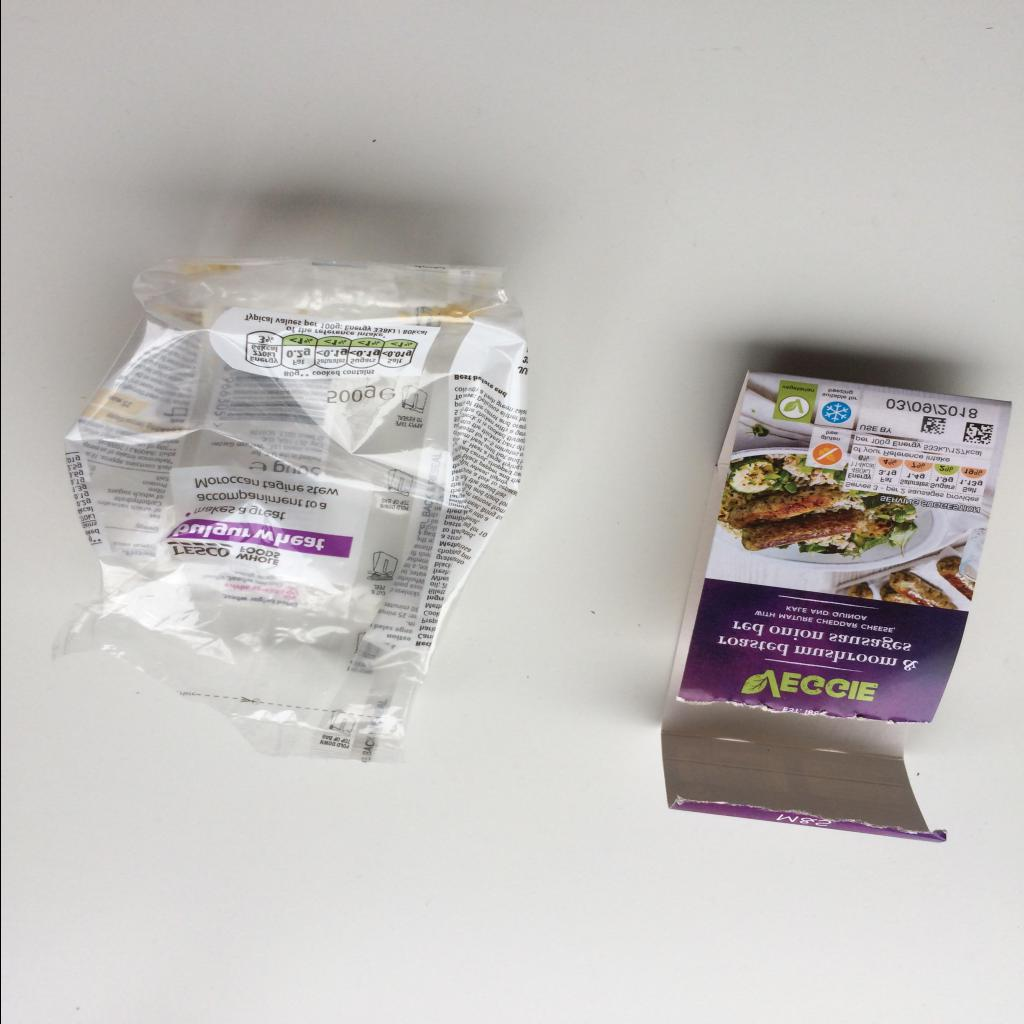Other carton: (660, 370, 1012, 844)
Plastic film: (50, 256, 528, 766)
